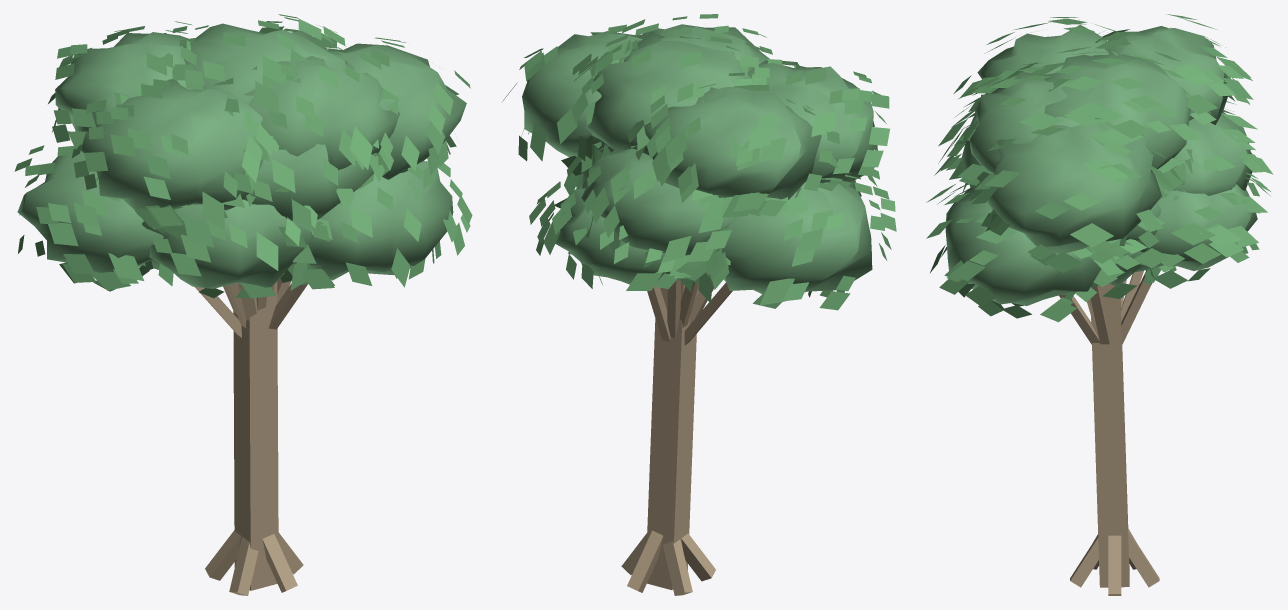
Rendered from linden.glb.
The picture shows the model from 3 angles, left to right: view 1: azimuth 30°, elevation 25°; view 2: azimuth 150°, elevation 25°; view 3: azimuth 270°, elevation 25°; orthographic projection. The views are drawn at different scales.
Parts seen in each view (by area): view 1: SourceMesh_00032, SourceMesh_00028, SourceMesh_00000, SourceMesh_00022, SourceMesh_00030, SourceMesh_00023, SourceMesh_00020, SourceMesh_00027, SourceMesh_00031, SourceMesh_00029, SourceMesh_00025, SourceMesh_00003 (+3 smaller); view 2: SourceMesh_00032, SourceMesh_00031, SourceMesh_00023, SourceMesh_00000, SourceMesh_00029, SourceMesh_00026, SourceMesh_00027, SourceMesh_00028, SourceMesh_00021, SourceMesh_00030, SourceMesh_00004, SourceMesh_00005 (+4 smaller); view 3: SourceMesh_00032, SourceMesh_00027, SourceMesh_00000, SourceMesh_00022, SourceMesh_00029, SourceMesh_00030, SourceMesh_00021, SourceMesh_00031, SourceMesh_00026, SourceMesh_00028, SourceMesh_00001, SourceMesh_00005 (+4 smaller).
Part boxes in pixels (x1,y1,x2,y2): SourceMesh_00032: (14, 14, 472, 298); SourceMesh_00028: (81, 79, 263, 210); SourceMesh_00000: (233, 281, 278, 590); SourceMesh_00022: (292, 161, 453, 280); SourceMesh_00030: (243, 56, 399, 169); SourceMesh_00023: (17, 151, 163, 272); SourceMesh_00020: (142, 199, 313, 288); SourceMesh_00027: (329, 43, 466, 179); SourceMesh_00031: (55, 32, 194, 131); SourceMesh_00029: (183, 23, 345, 104); SourceMesh_00025: (243, 143, 377, 220); SourceMesh_00003: (229, 536, 258, 595); SourceMesh_00032: (502, 14, 896, 310); SourceMesh_00031: (644, 86, 821, 199); SourceMesh_00023: (716, 182, 872, 293); SourceMesh_00000: (647, 282, 696, 590); SourceMesh_00029: (586, 32, 753, 155); SourceMesh_00026: (581, 148, 736, 255); SourceMesh_00027: (522, 31, 642, 162); SourceMesh_00028: (747, 60, 874, 183); SourceMesh_00021: (555, 180, 679, 284); SourceMesh_00030: (637, 24, 769, 63); SourceMesh_00004: (663, 539, 692, 595); SourceMesh_00005: (627, 530, 663, 592); SourceMesh_00032: (926, 14, 1273, 322); SourceMesh_00027: (986, 123, 1161, 253); SourceMesh_00000: (1090, 283, 1129, 587); SourceMesh_00022: (945, 187, 1101, 305); SourceMesh_00029: (1044, 54, 1190, 172); SourceMesh_00030: (970, 72, 1080, 174); SourceMesh_00021: (1137, 184, 1257, 270); SourceMesh_00031: (1092, 26, 1227, 124); SourceMesh_00026: (1162, 111, 1252, 195); SourceMesh_00028: (977, 24, 1108, 94); SourceMesh_00001: (1108, 535, 1121, 595); SourceMesh_00005: (1128, 530, 1159, 587).
Bounding box in the file's own units: 3.04 × 4.01 × 2.45.
